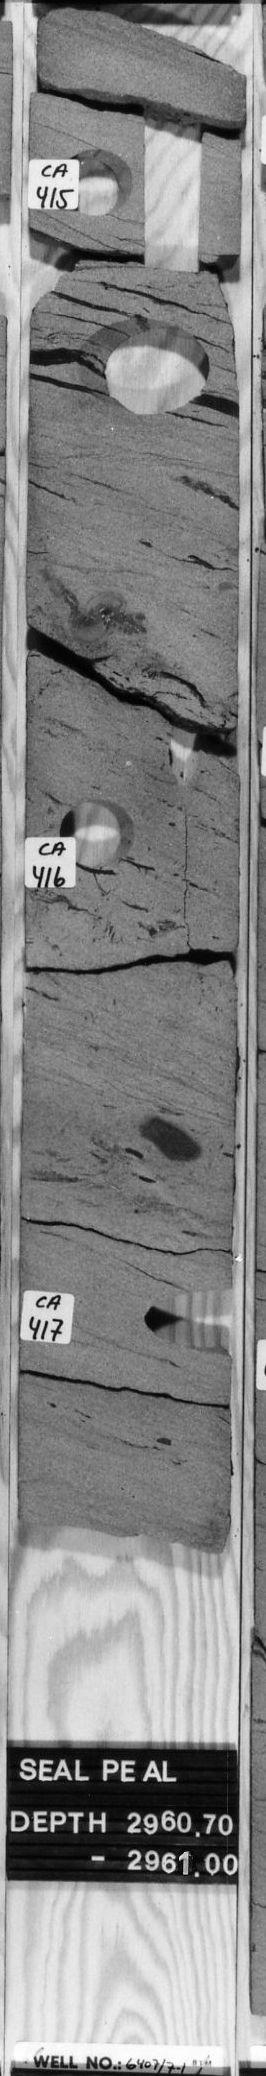hplug: (135, 1275, 228, 1365), (50, 792, 143, 879), (50, 143, 138, 224)
scal: (75, 308, 214, 421)
vplug: (136, 102, 210, 275), (154, 712, 213, 794)
